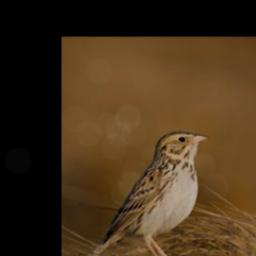Sparrow: (90, 130, 210, 256)
